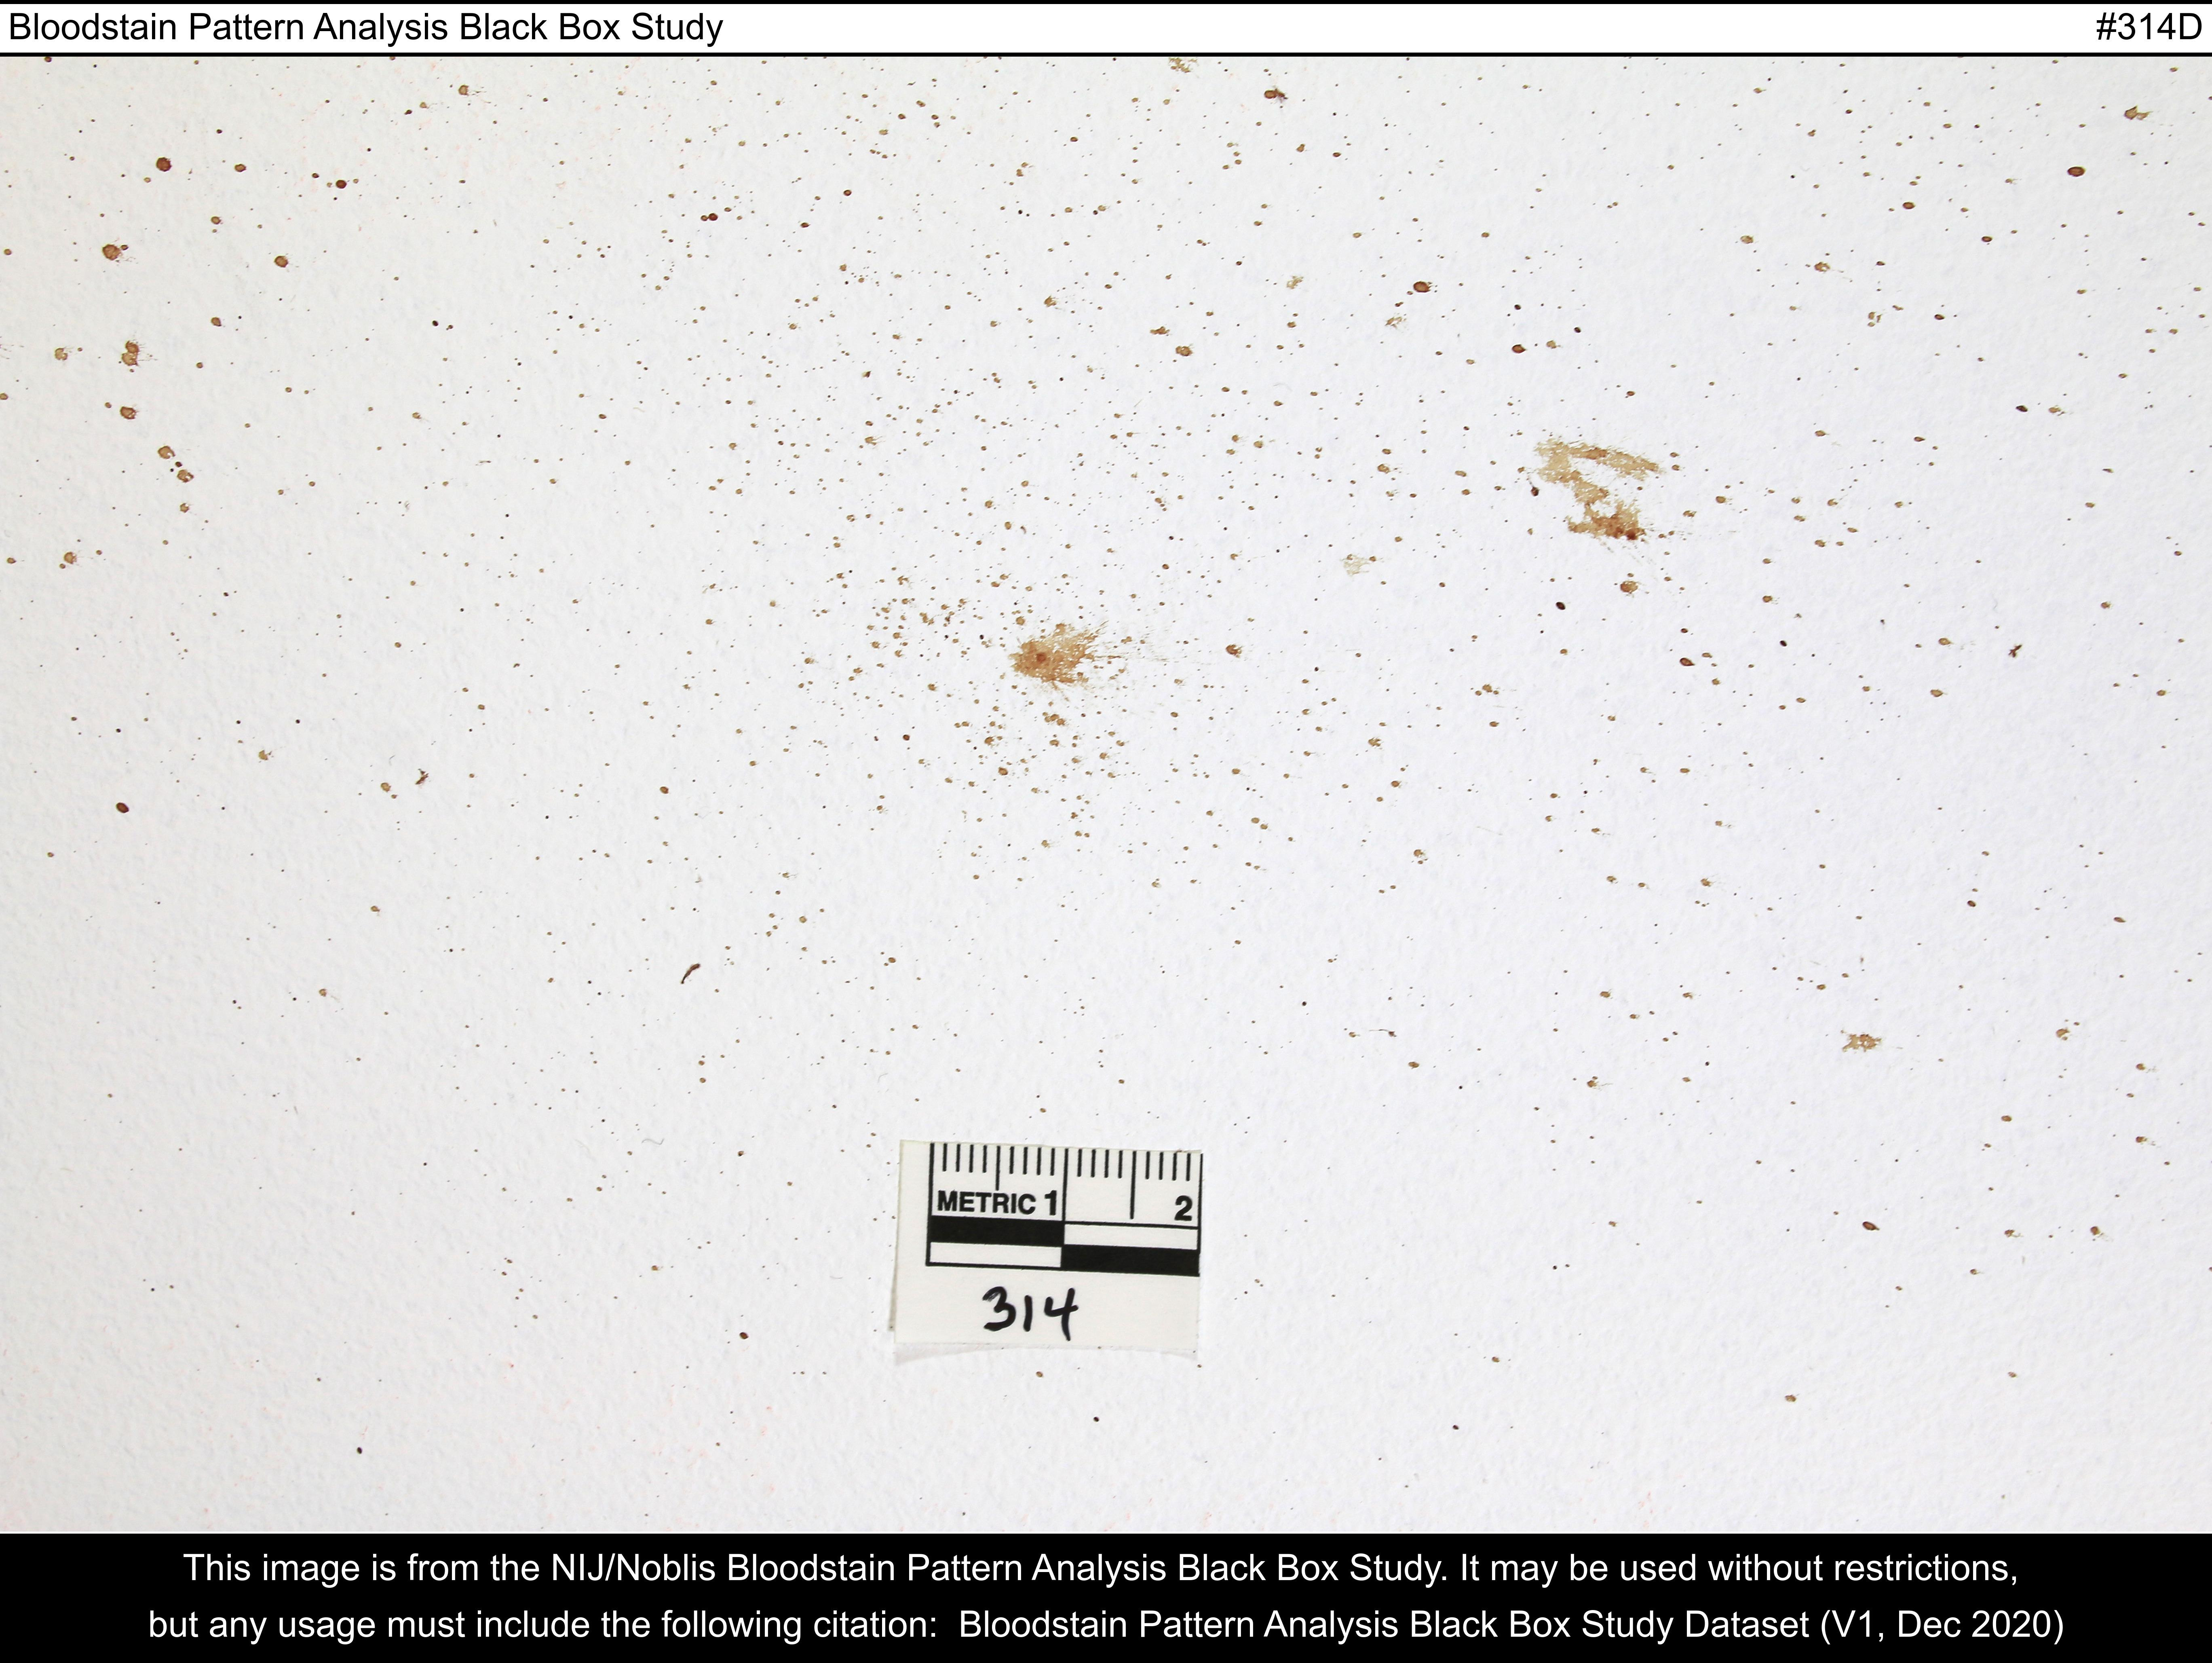Impact: (0, 61, 2212, 1476)
